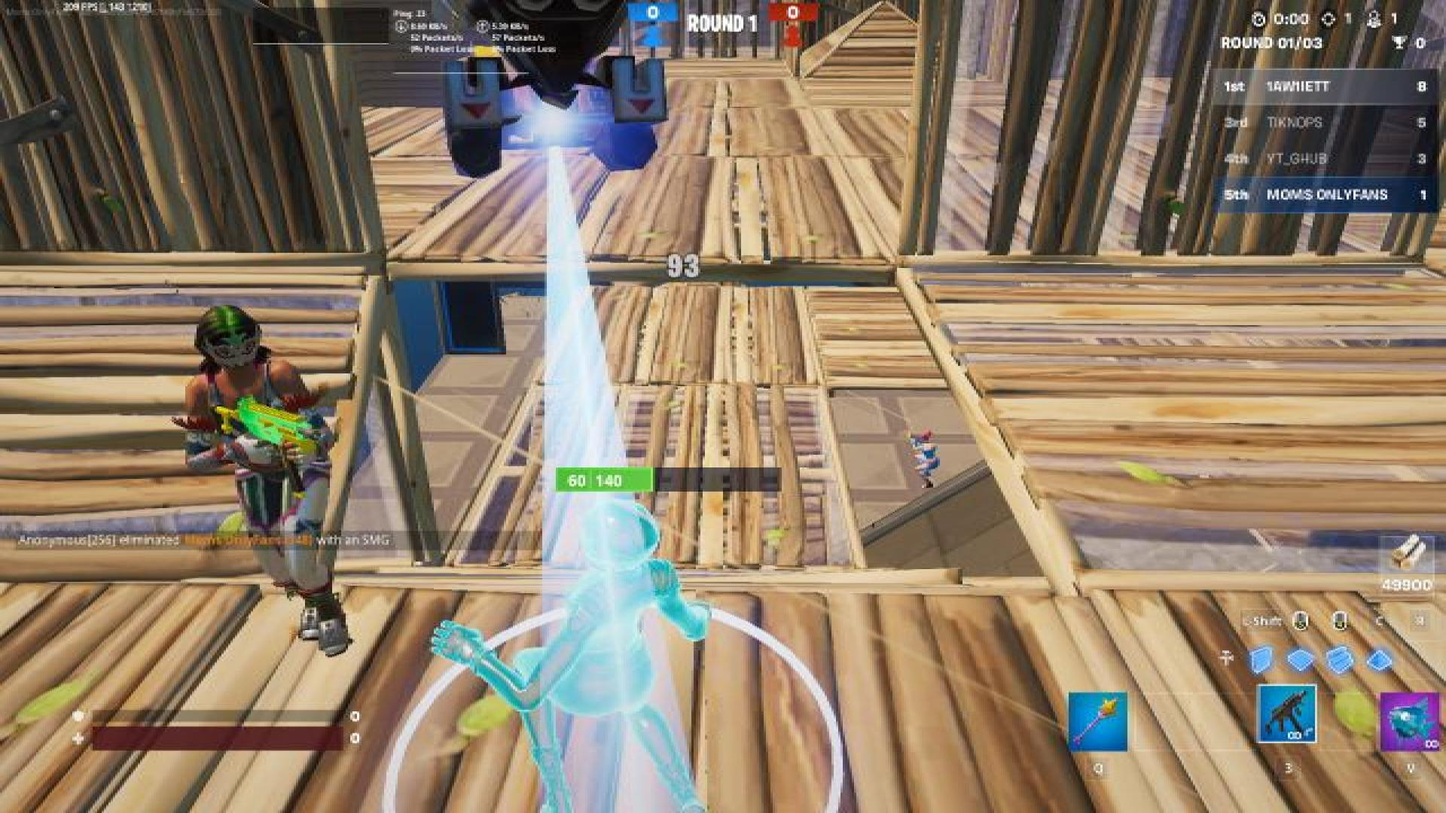player: (171, 299, 385, 661), (896, 425, 952, 492)
